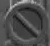No waiting: (1, 1, 45, 40)
